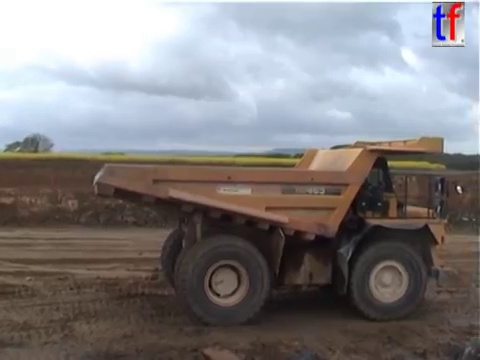truck: (90, 134, 466, 329)
